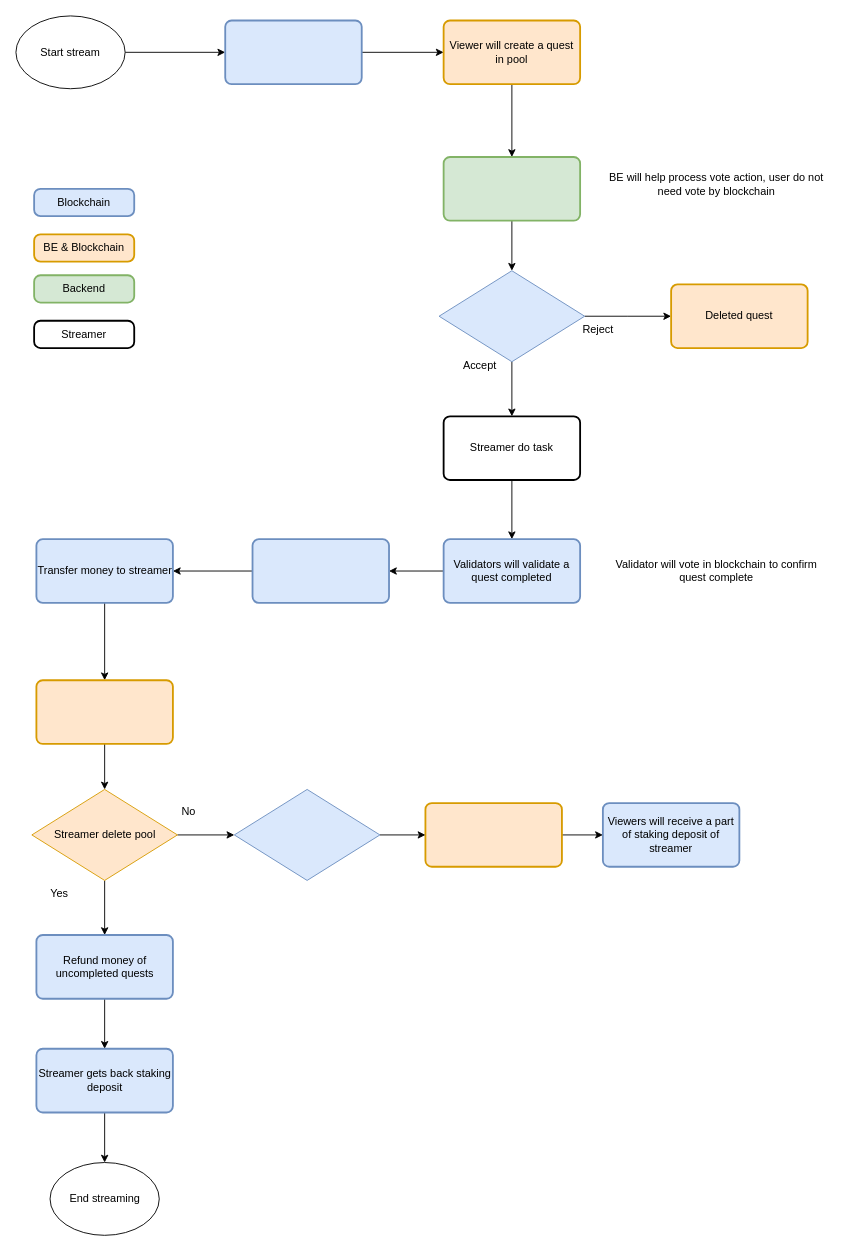
Image size: 842x1251. Some labels were removed from this diagram. Each missing label, with the centre of its shape:
"3 epochs passed" goes at (x=306, y=834).
"Pick a random validator to get a reward" goes at (x=320, y=570).
"Remove the quest out of pool" goes at (x=104, y=711).
"Streamer creates a pool and stake NEAR" goes at (x=293, y=52).
"Streamer pick or reject challenge" goes at (x=511, y=316).
"Viewer deletes pool" goes at (x=493, y=834).
"Viewer vote" goes at (x=511, y=188).
